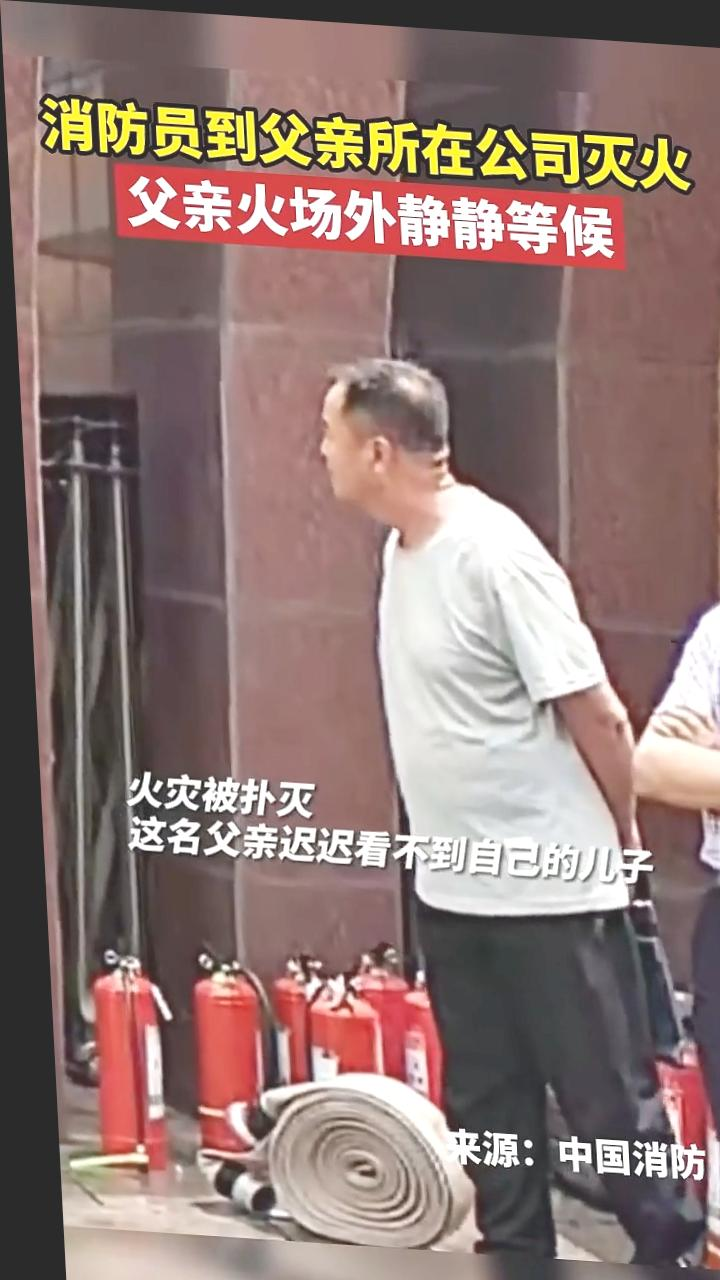FireExtinguisher: (65, 934, 176, 1187), (173, 938, 278, 1170), (252, 919, 372, 1093), (343, 929, 442, 1090)
